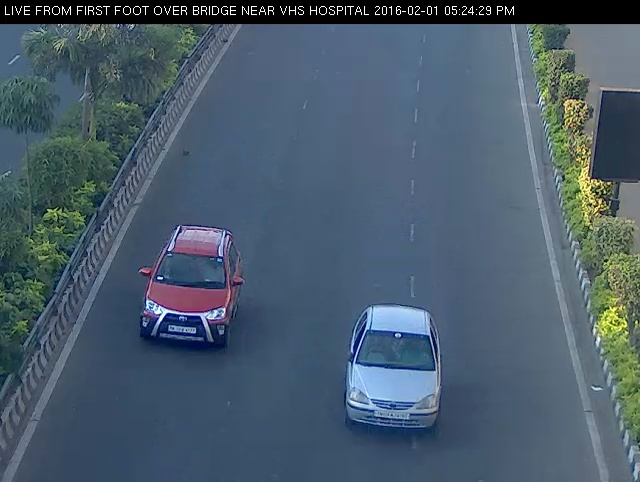Car: (122, 217, 251, 365), (334, 289, 450, 442)
